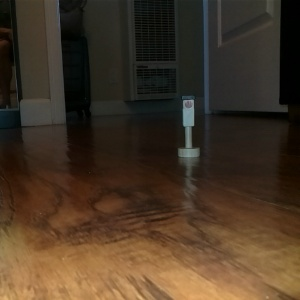traffic light red: (176, 94, 201, 159)
